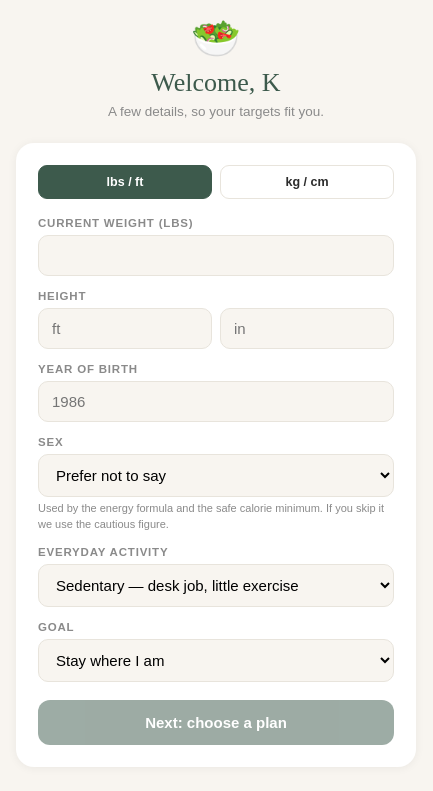
Scenario: onboarding › a computed plan cannot be carried forward without the details it needs
The width and height of the screenshot is (433, 791).
In the number field labelled "Current weight (lbs)": (216, 256) [38,235,394,276], type "150"
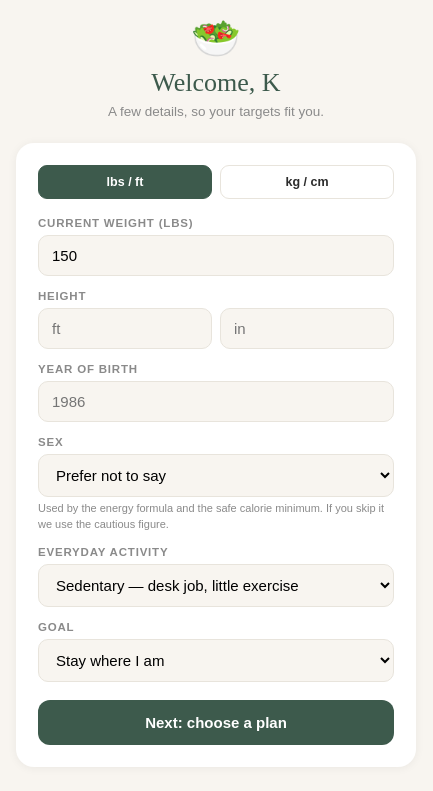
Click the button "Next: choose a plan": (216, 722) [38,700,394,745]
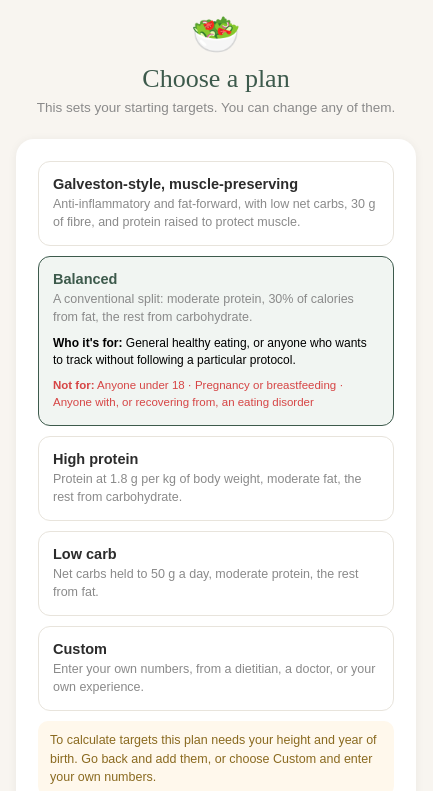
Check: the message shows "needs your height and year of birth", box [50,733,377,784]
Click the button "Custom": (216, 669) [38,626,394,711]
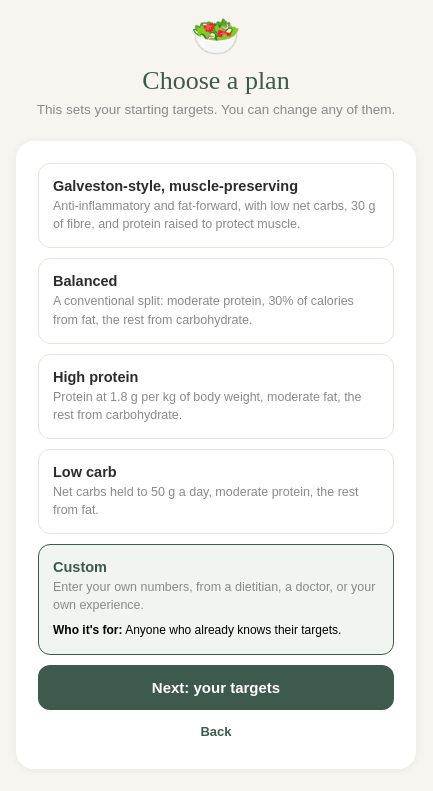
Check: the button "Next: your targets" is enabled, box [38,665,394,710]
